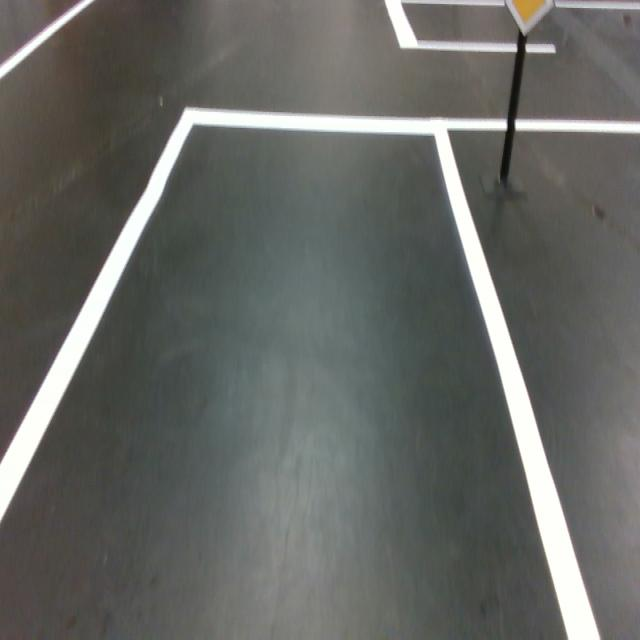priority-sign: (503, 0, 553, 36)
